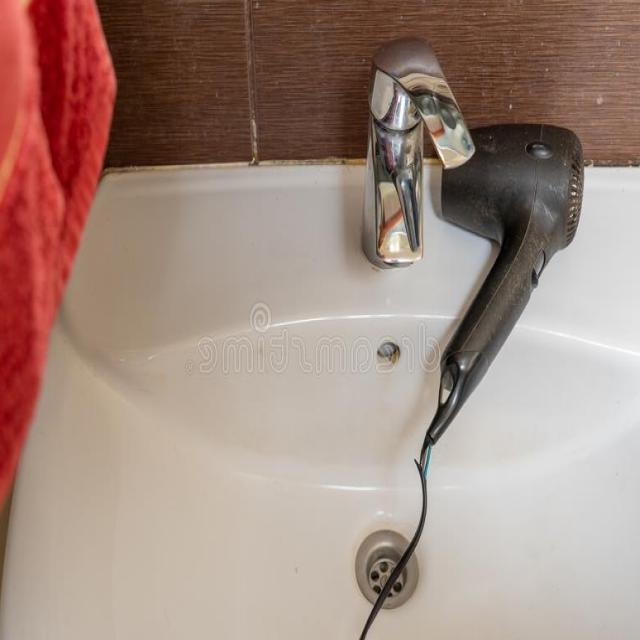dryer: (390, 109, 597, 495)
